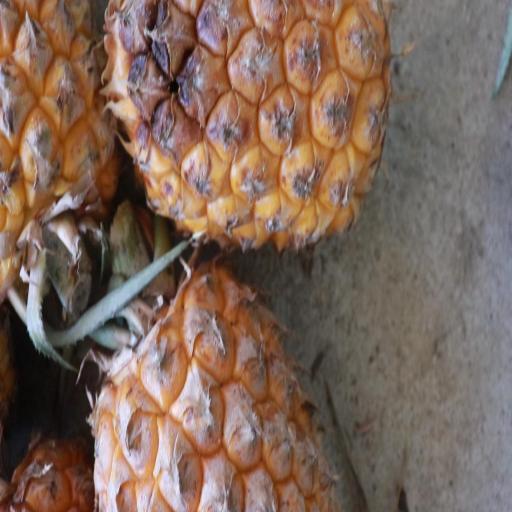Pineapple - v8 v1: (86, 0, 393, 258), (89, 259, 341, 512)
